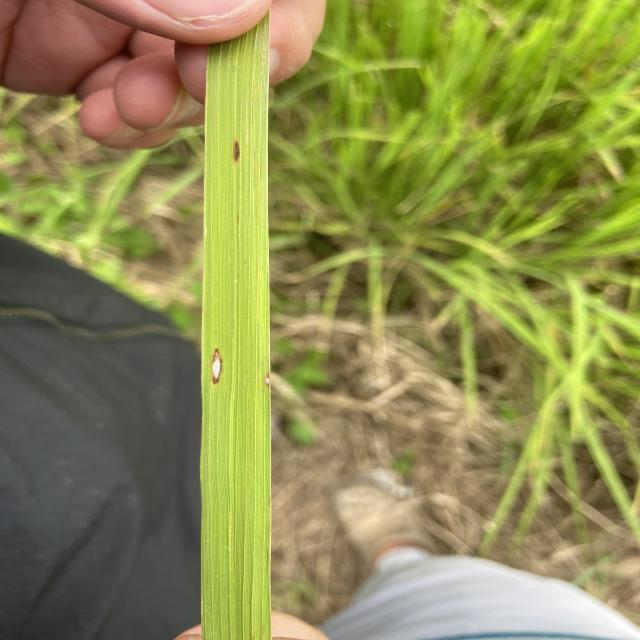Dao on: (211, 348, 222, 384), (265, 373, 270, 388)
